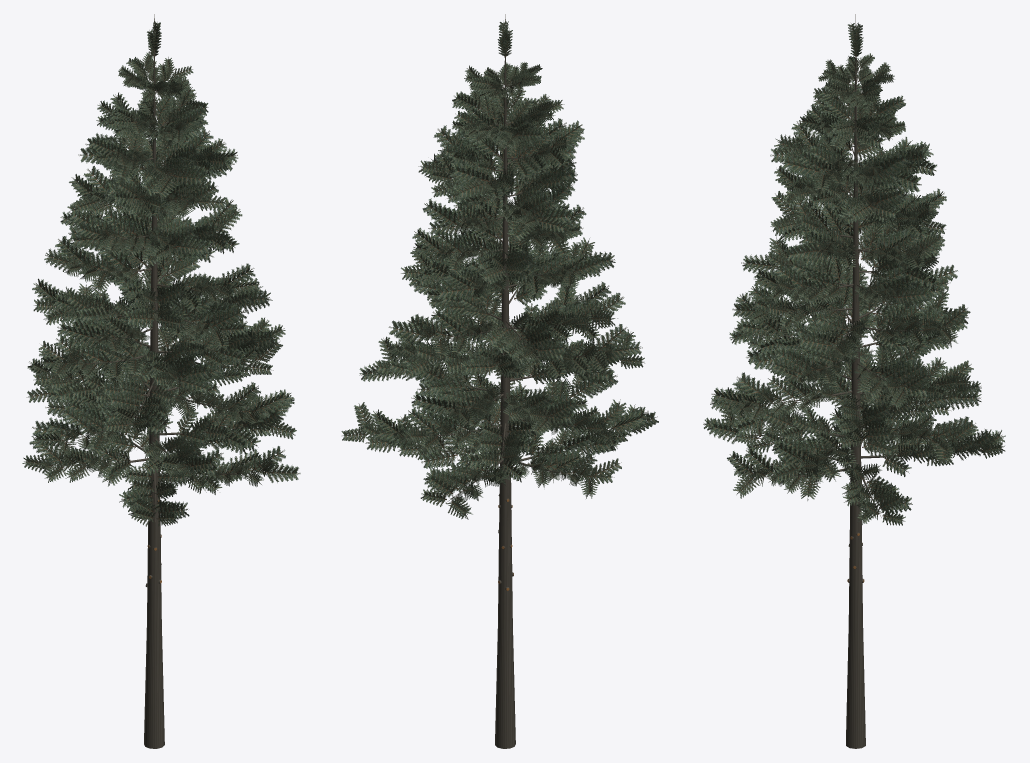
File: Sitka_Pole_01_MediumPruned_Recent_LOD0.fbx
3 renders of one model, left to right at view 1: azimuth 30°, elevation 25°; view 2: azimuth 150°, elevation 25°; view 3: azimuth 270°, elevation 25°, orthographic.
Visible parts, largest first — view 1: Sitka_Pole_01_MediumPruned_Recent_LOD0; view 2: Sitka_Pole_01_MediumPruned_Recent_LOD0; view 3: Sitka_Pole_01_MediumPruned_Recent_LOD0.
Boxes of the visible parts, left/top/right/bottom form: Sitka_Pole_01_MediumPruned_Recent_LOD0: left=22, top=14, right=300, bottom=748; Sitka_Pole_01_MediumPruned_Recent_LOD0: left=341, top=14, right=658, bottom=748; Sitka_Pole_01_MediumPruned_Recent_LOD0: left=703, top=14, right=1005, bottom=748.
Size of the model in its own units: 321 by 800 by 317.
3 materials, 3 textured.
